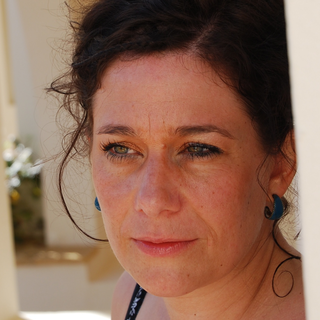eye: (97, 134, 147, 166), (169, 139, 223, 163)
